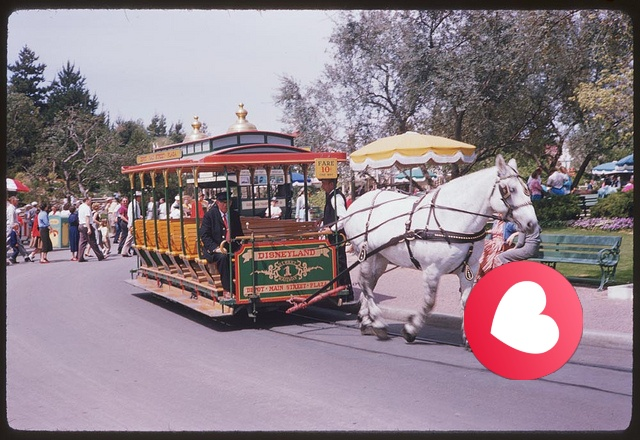love: (464, 261, 583, 380)
